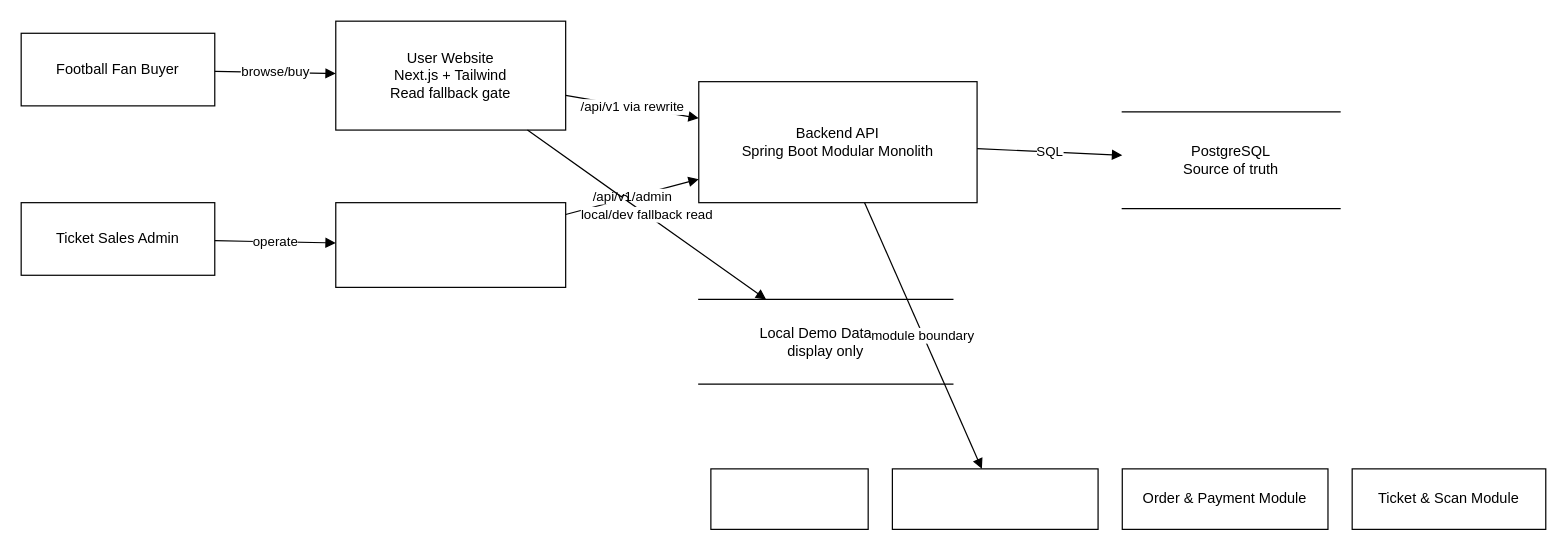
The diagram is 1567 pixels wide and 551 high, and some of its shapes have lost their labels. Each missing label, with the centre of its shape:
"Admin Web Next.js + Tailwind" belongs at (450,244).
"Auth Module" belongs at (789,498).
"Match & Inventory Module" belongs at (994,498).
